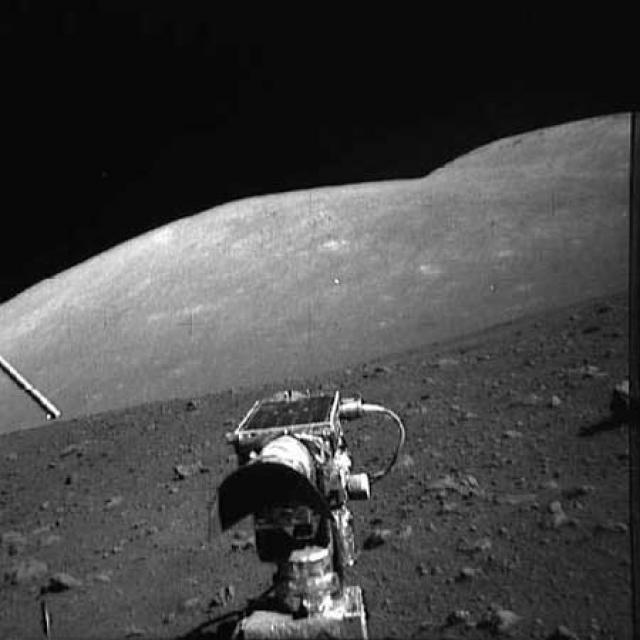artifact: (202, 377, 432, 638), (0, 350, 70, 428)
crater: (420, 339, 512, 369)
rock: (604, 370, 638, 425), (473, 599, 522, 636), (38, 563, 91, 595), (541, 486, 571, 540), (445, 590, 475, 635), (168, 454, 206, 489), (450, 528, 495, 554), (180, 387, 200, 416)
